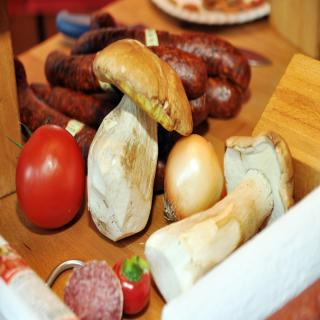tomato: (14, 120, 88, 228), (115, 253, 149, 314)
